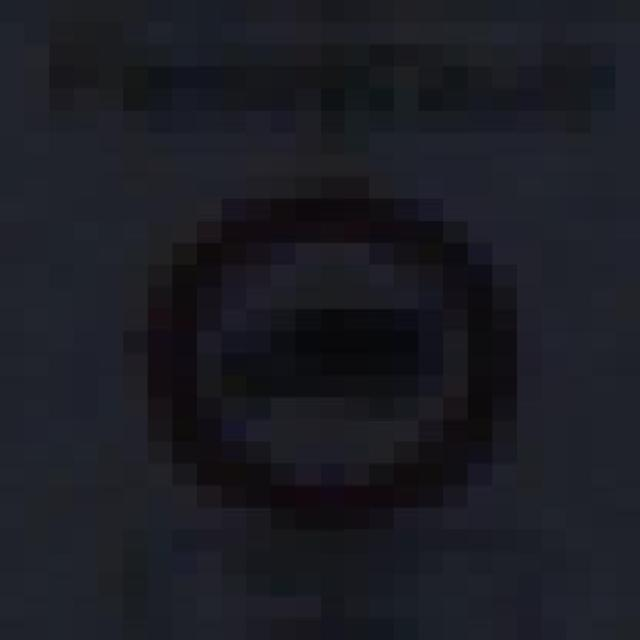Truck traffic is prohibited: (99, 154, 566, 574)
